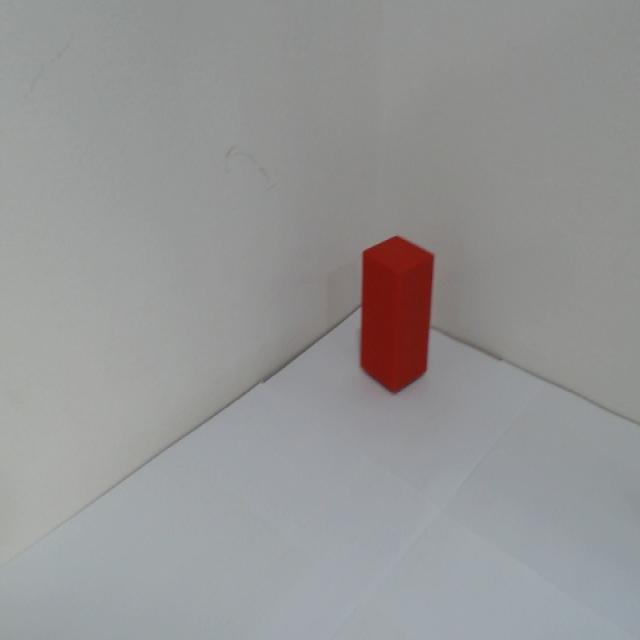cube: (353, 229, 438, 400)
